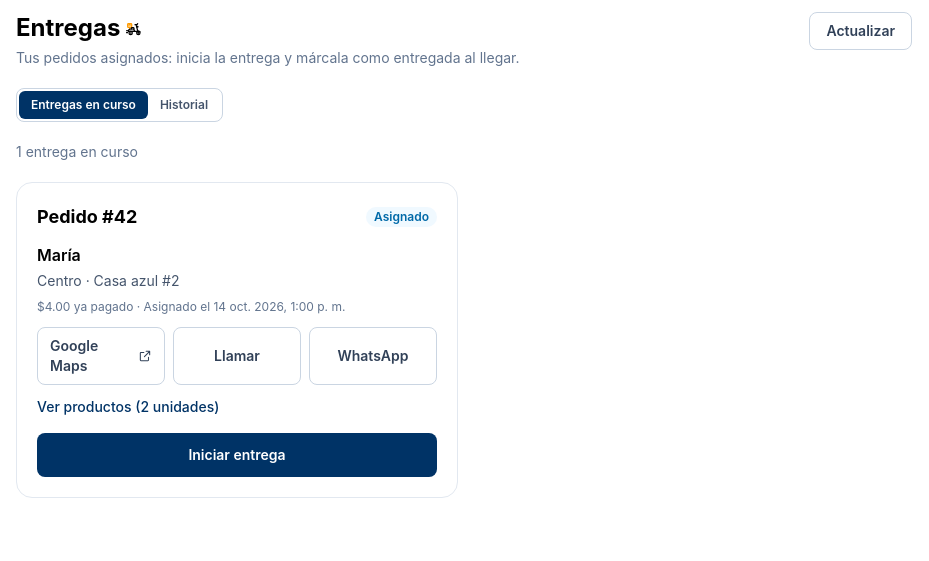
Entregas del repartidor › muestra los productos al pedirlos
Click the button "Ver productos (2 unidades)".
click(128, 407)  # box [37, 397, 219, 417]
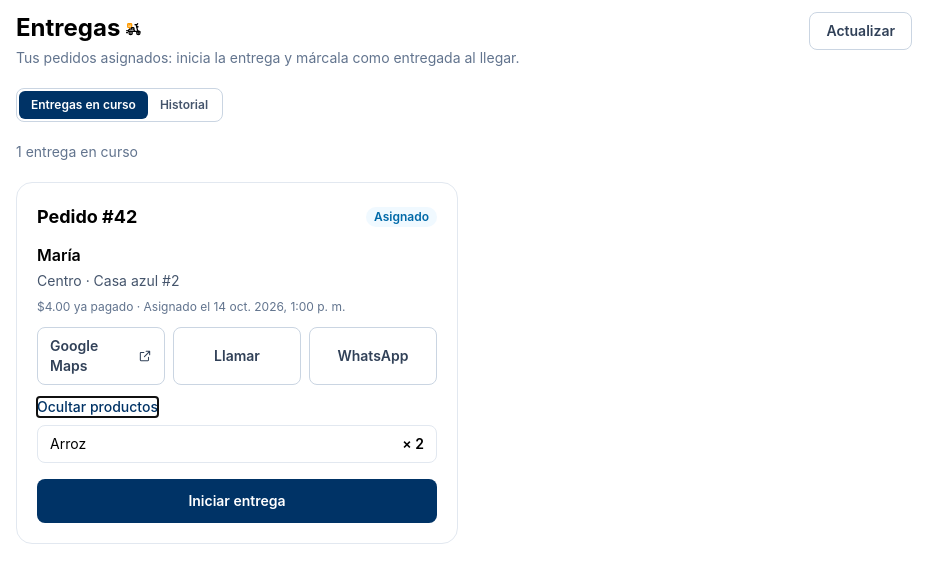
Check: the text "Arroz" is shown, box [50, 434, 86, 454]
Check: the text "× 2" is shown, box [402, 434, 424, 454]
